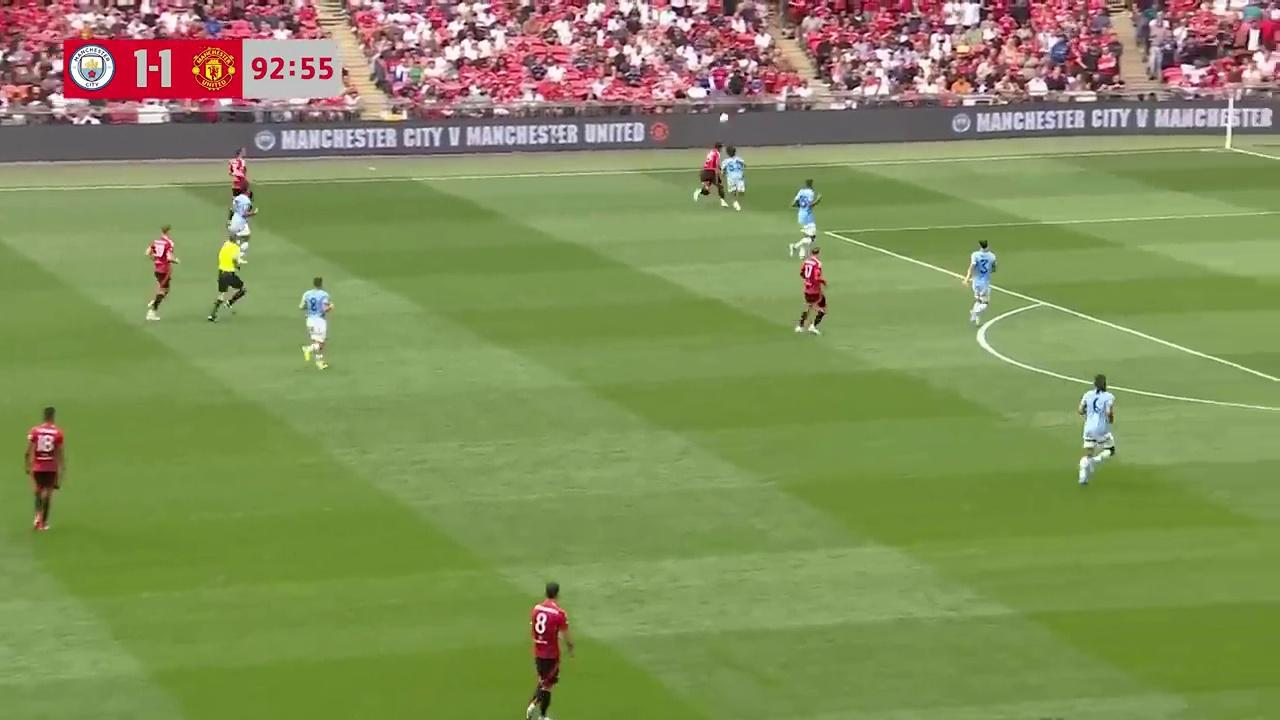player: (524, 581, 573, 720), (24, 405, 65, 531), (1077, 374, 1116, 486), (298, 276, 334, 370), (144, 226, 179, 321), (795, 247, 827, 335), (963, 240, 997, 320), (790, 179, 820, 255), (226, 187, 257, 260), (228, 146, 256, 217), (693, 143, 723, 203), (720, 146, 746, 211)
referee: (207, 231, 246, 321)
